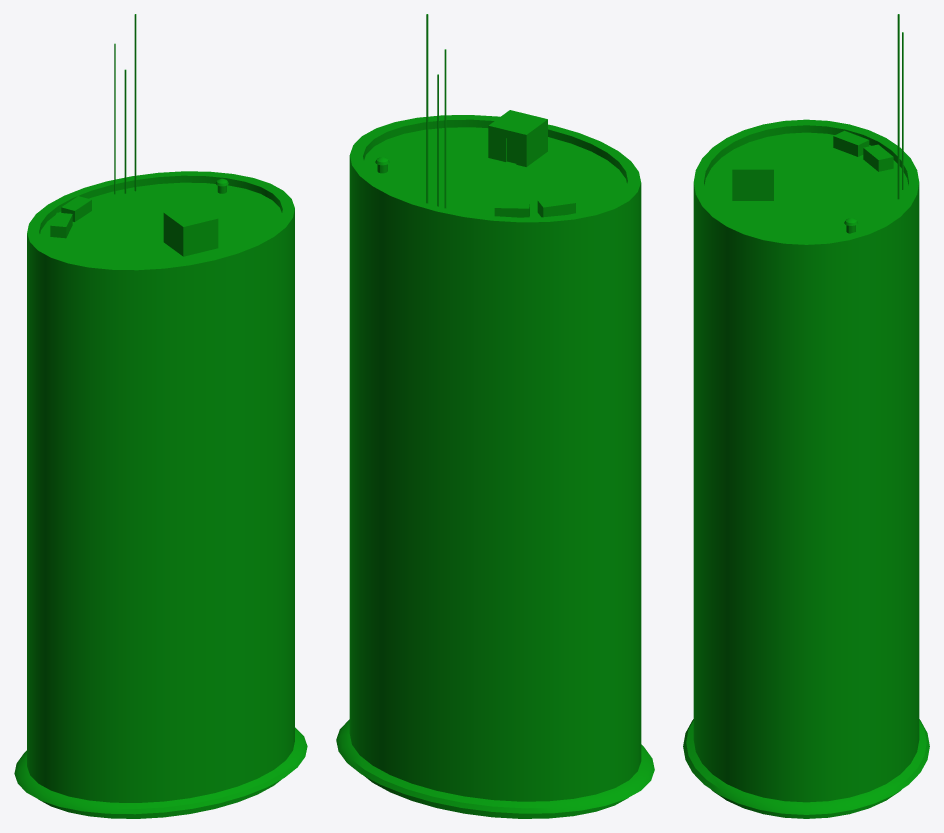
The model's file is RoundHouse.fbx.
3 views of the same model, side by side, from view 1: azimuth 30°, elevation 25°; view 2: azimuth 150°, elevation 25°; view 3: azimuth 270°, elevation 25° (orthographic). The views are drawn at different scales.
Visible parts, largest first — view 1: Building_4.001; view 2: Building_4.001; view 3: Building_4.001.
Part boxes in pixels (bbox=[...]): Building_4.001: bbox=[14, 14, 307, 818]; Building_4.001: bbox=[336, 14, 654, 818]; Building_4.001: bbox=[683, 14, 929, 818].
Size of the model in its own units: 439 by 1123 by 334.
